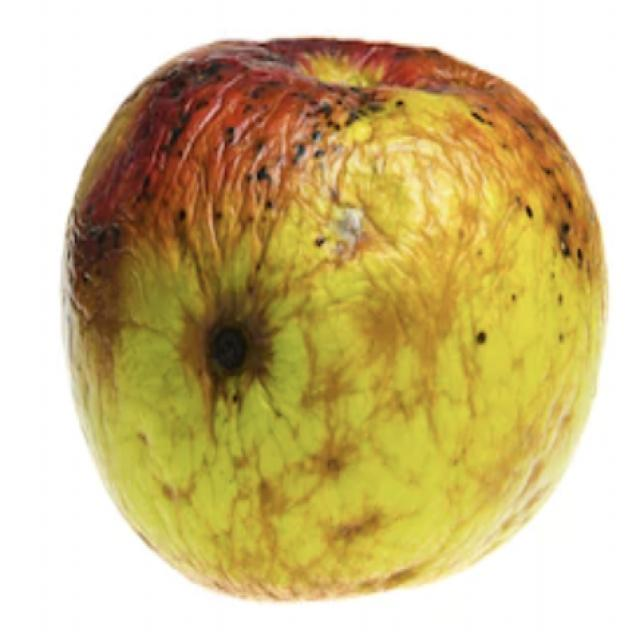rotten_apple: (58, 35, 608, 602)
